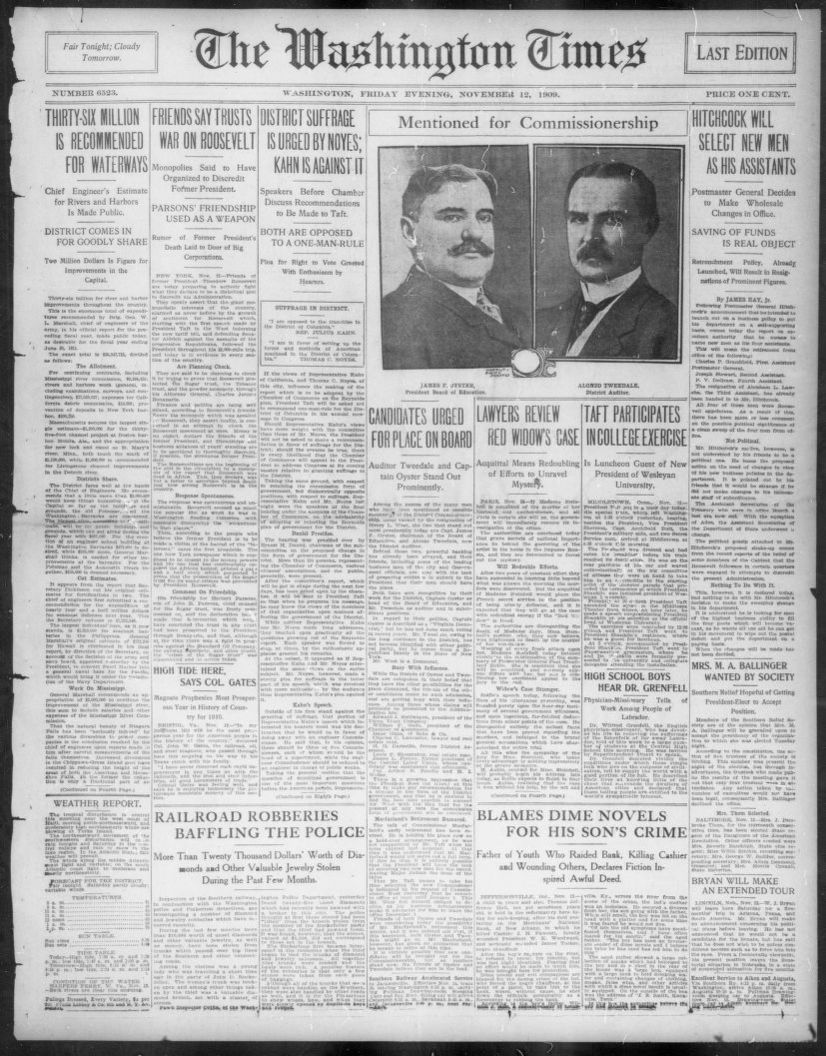news_paper: (6, 2, 825, 1050)
